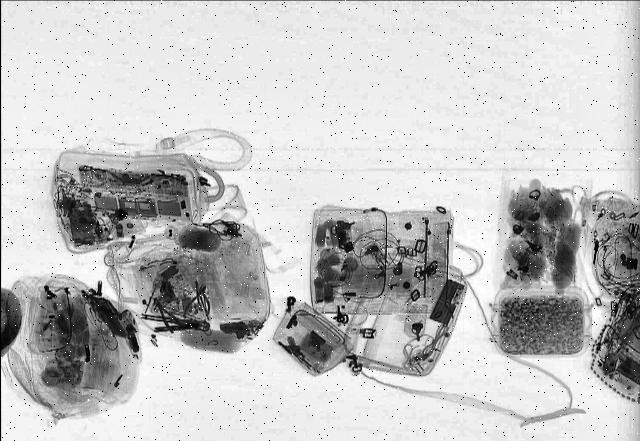Pliers: (146, 296, 184, 332), (182, 282, 218, 318)
